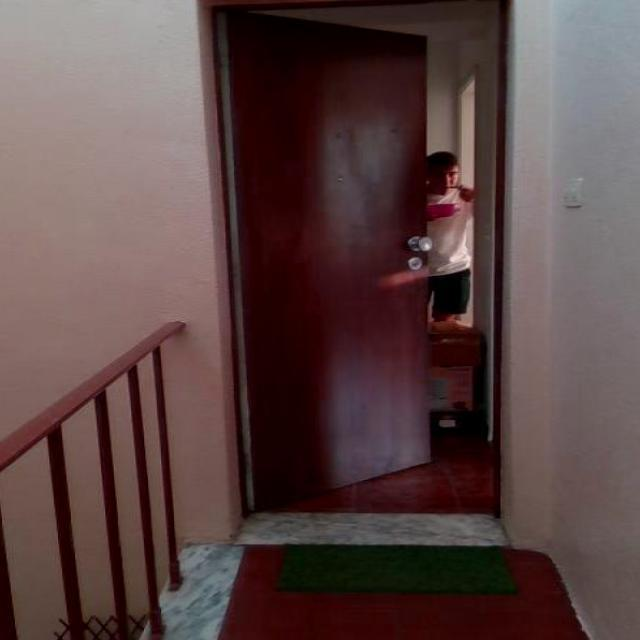door: (221, 11, 434, 512)
